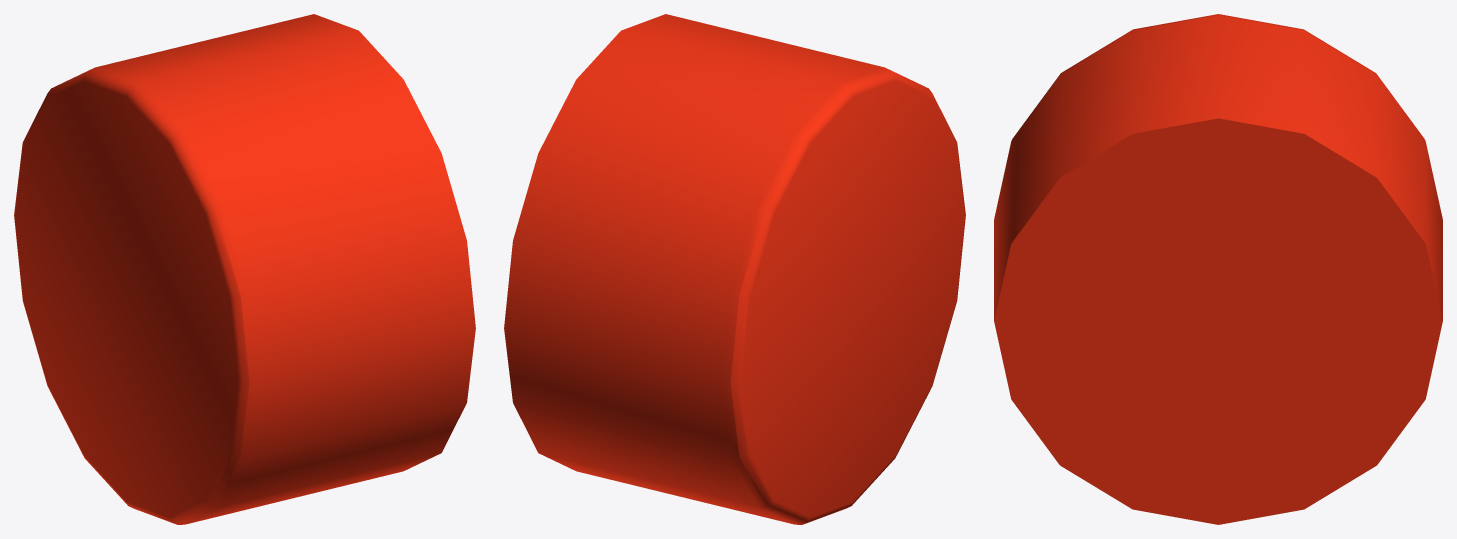
Rendered from Oven Button 2.fbx.
The picture shows the model from 3 angles, left to right: view 1: azimuth 30°, elevation 25°; view 2: azimuth 150°, elevation 25°; view 3: azimuth 270°, elevation 25°; orthographic projection. The views are drawn at different scales.
Parts seen in each view (by area): view 1: Oven Button 2; view 2: Oven Button 2; view 3: Oven Button 2.
Part boxes in pixels (x1,y1,x2,y2): Oven Button 2: (14,14,475,524); Oven Button 2: (504,14,965,524); Oven Button 2: (994,14,1442,524).
Size of the model in its own units: 1.28 by 2.22 by 2.22.
